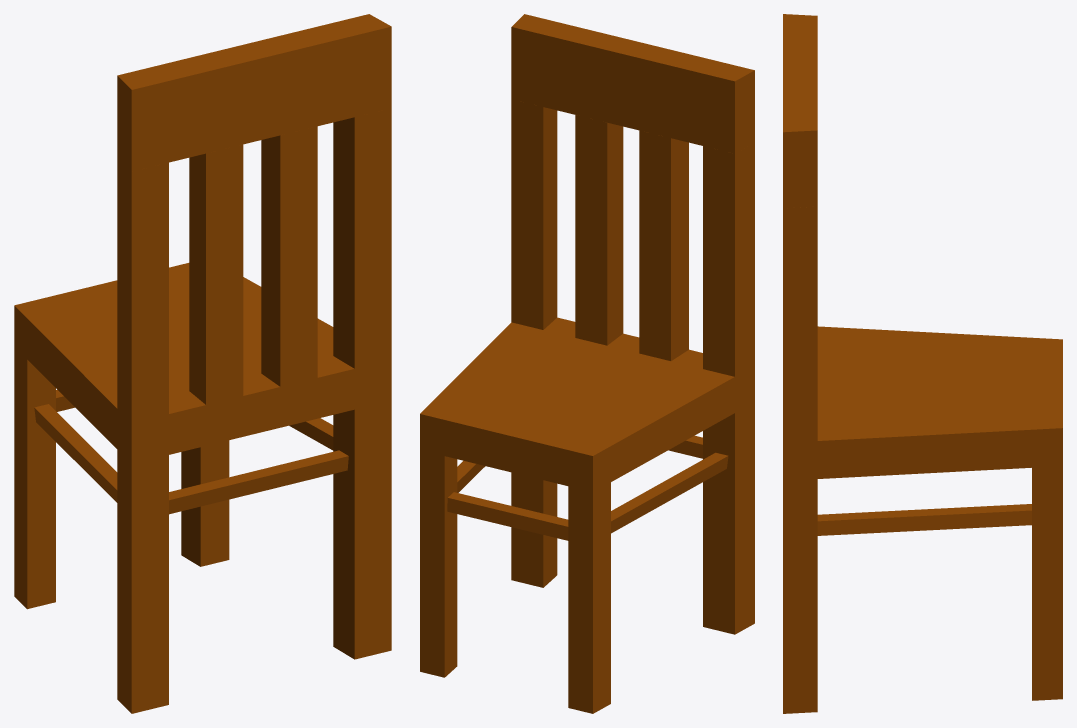
The model's file is lavitta.fbx.
3 renders of one model, left to right at view 1: azimuth 30°, elevation 25°; view 2: azimuth 150°, elevation 25°; view 3: azimuth 270°, elevation 25°, orthographic. The views are drawn at different scales.
Parts seen in each view (by area): view 1: lavitta; view 2: lavitta; view 3: lavitta.
Part boxes in pixels (bbox=[...]): lavitta: bbox=[14, 14, 391, 713]; lavitta: bbox=[420, 14, 754, 713]; lavitta: bbox=[783, 14, 1062, 713].
Size of the model in its own units: 44 by 101 by 44.
